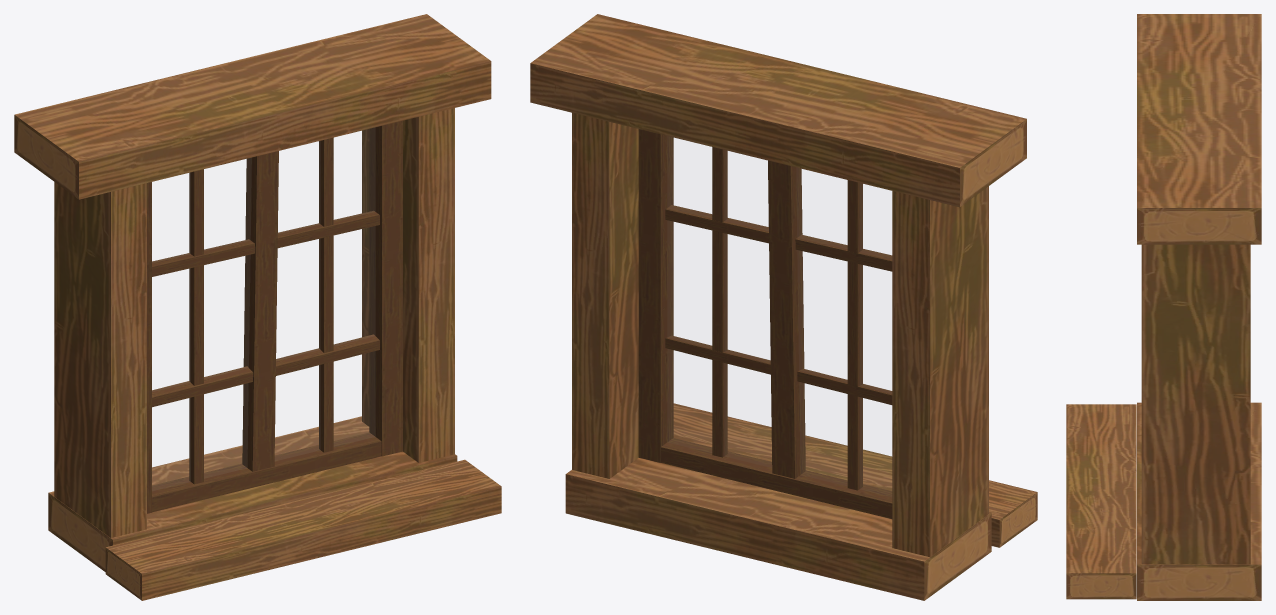
The model's file is Window_Wide_Flat1.gltf.
3 views of the same model, side by side, from view 1: azimuth 30°, elevation 25°; view 2: azimuth 150°, elevation 25°; view 3: azimuth 270°, elevation 25° (orthographic). The views are drawn at different scales.
Visible parts, largest first — view 1: Window_Wide_Flat1; view 2: Window_Wide_Flat1; view 3: Window_Wide_Flat1.
Boxes of the visible parts, box(x1,y1,x2,y2) form: Window_Wide_Flat1: box(14, 14, 501, 600); Window_Wide_Flat1: box(530, 14, 1037, 600); Window_Wide_Flat1: box(1066, 14, 1261, 600).
Size of the model in its own units: 1.61 by 1.58 by 0.6834.
2 materials, 1 textured.
